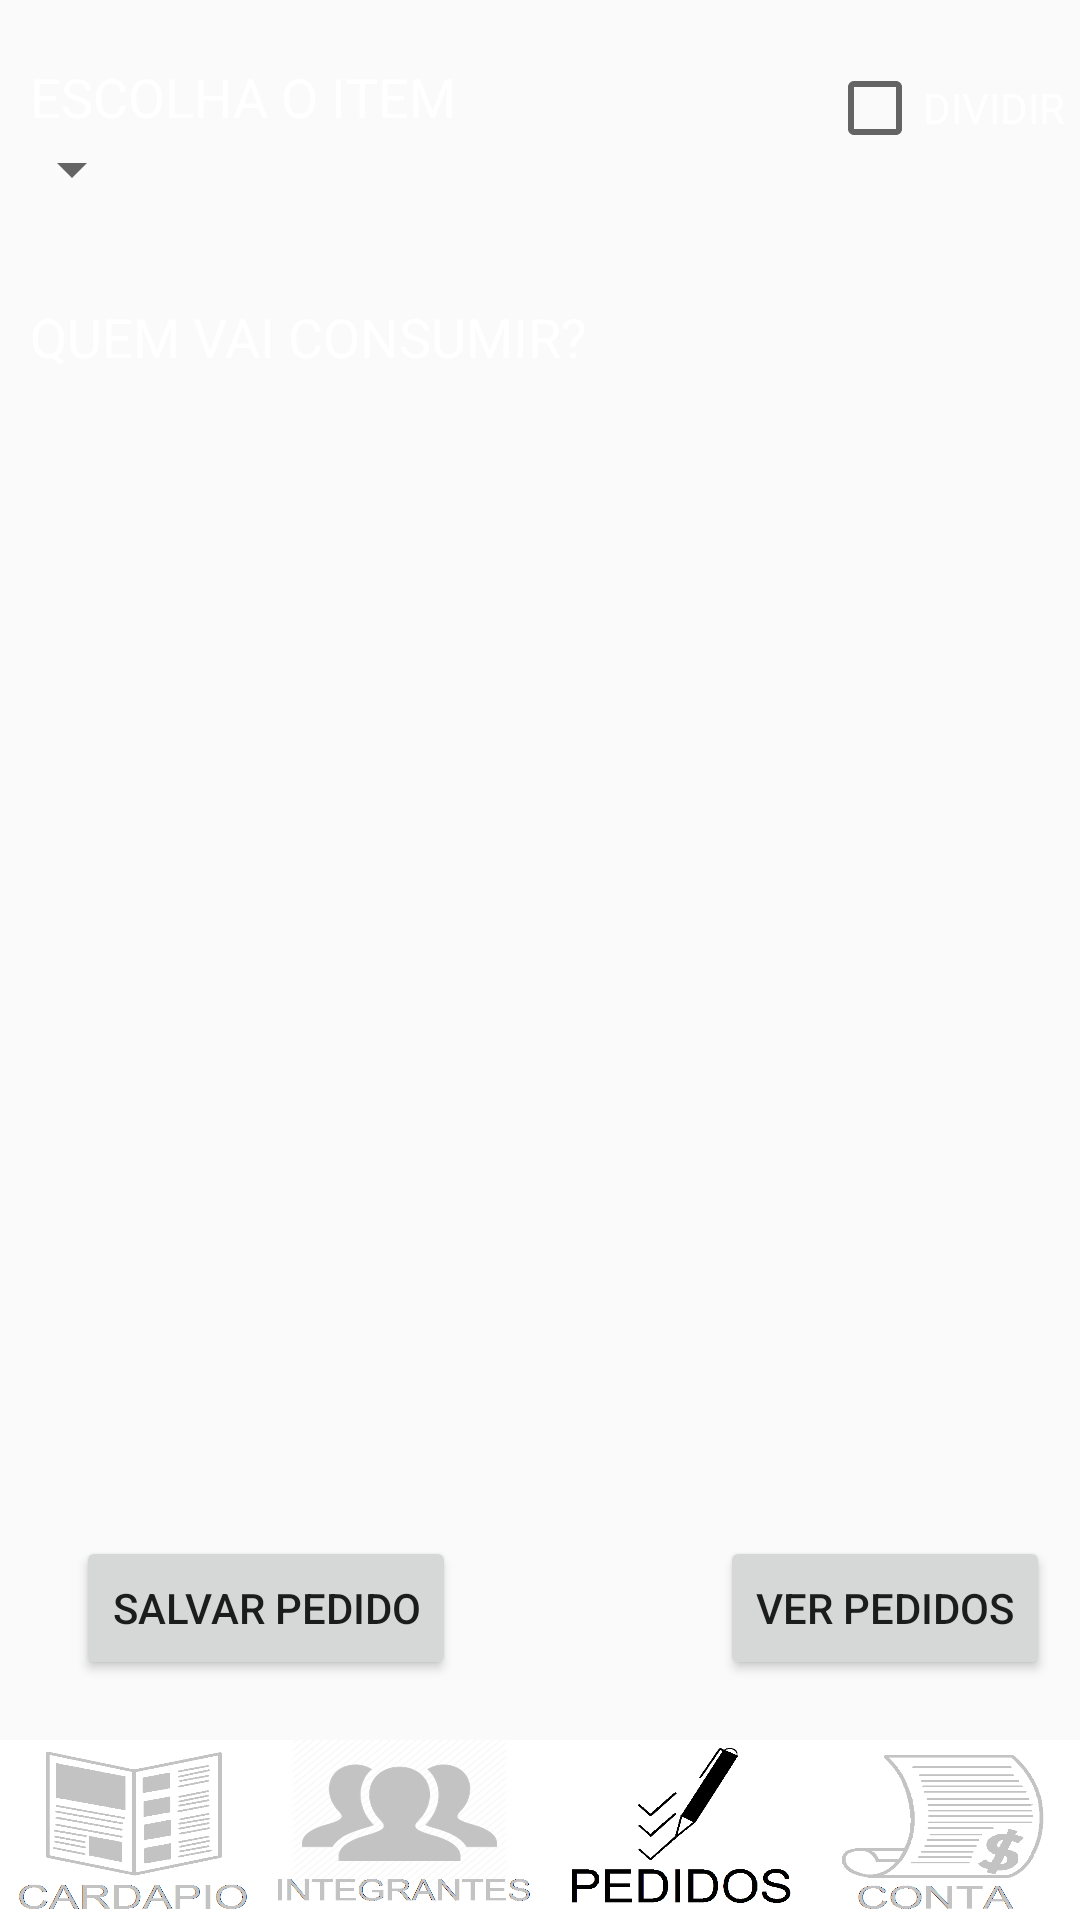

Locate icon controls on the screen. Image size 1080×1920, boxes as [left=x1, top=y1, right=x2, bottom=y2].
people off: [left=278, top=1764, right=530, bottom=1901]
